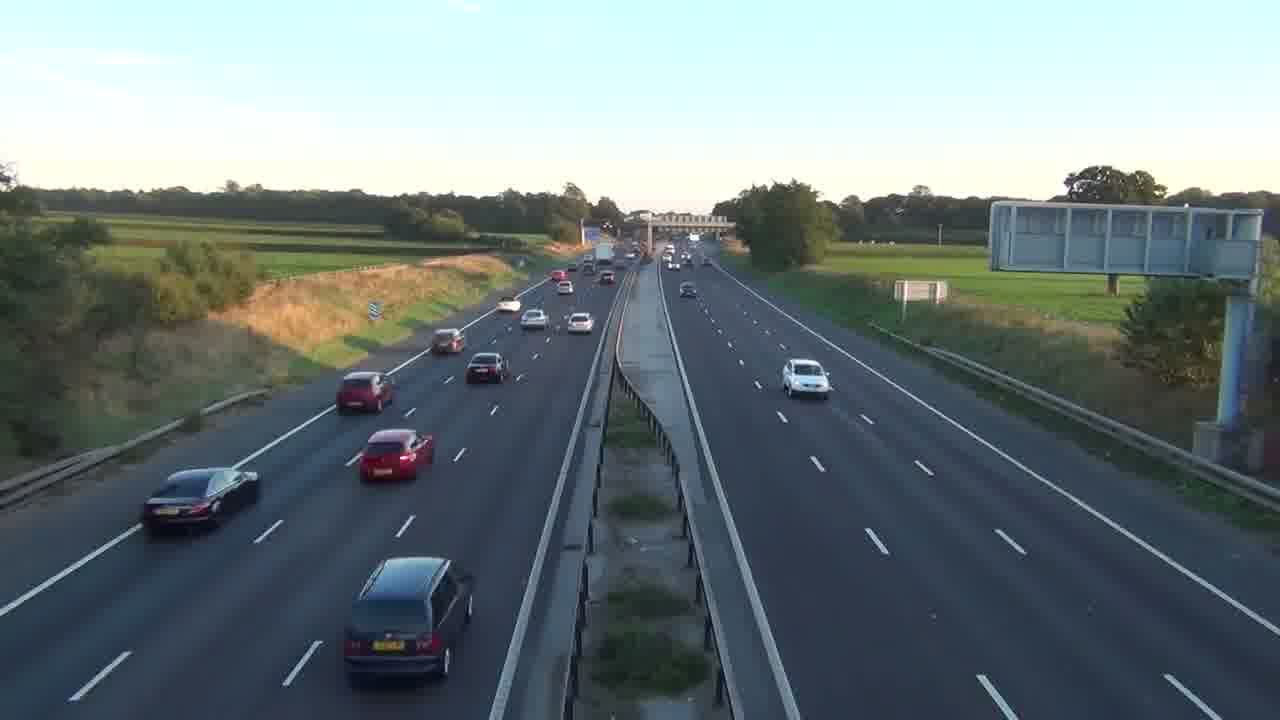car: (341, 555, 473, 684), (141, 466, 259, 536), (357, 428, 434, 482), (335, 370, 394, 415), (781, 358, 833, 400), (465, 352, 506, 384), (566, 312, 594, 334), (679, 281, 697, 299)
